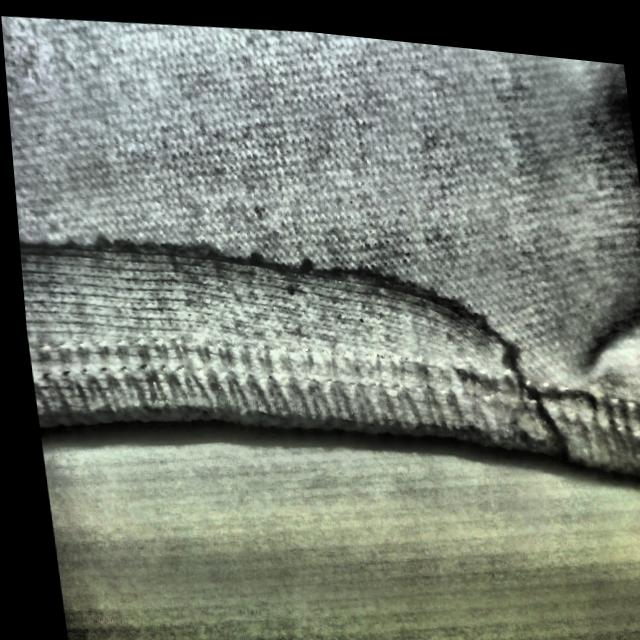seam: (10, 154, 528, 465)
